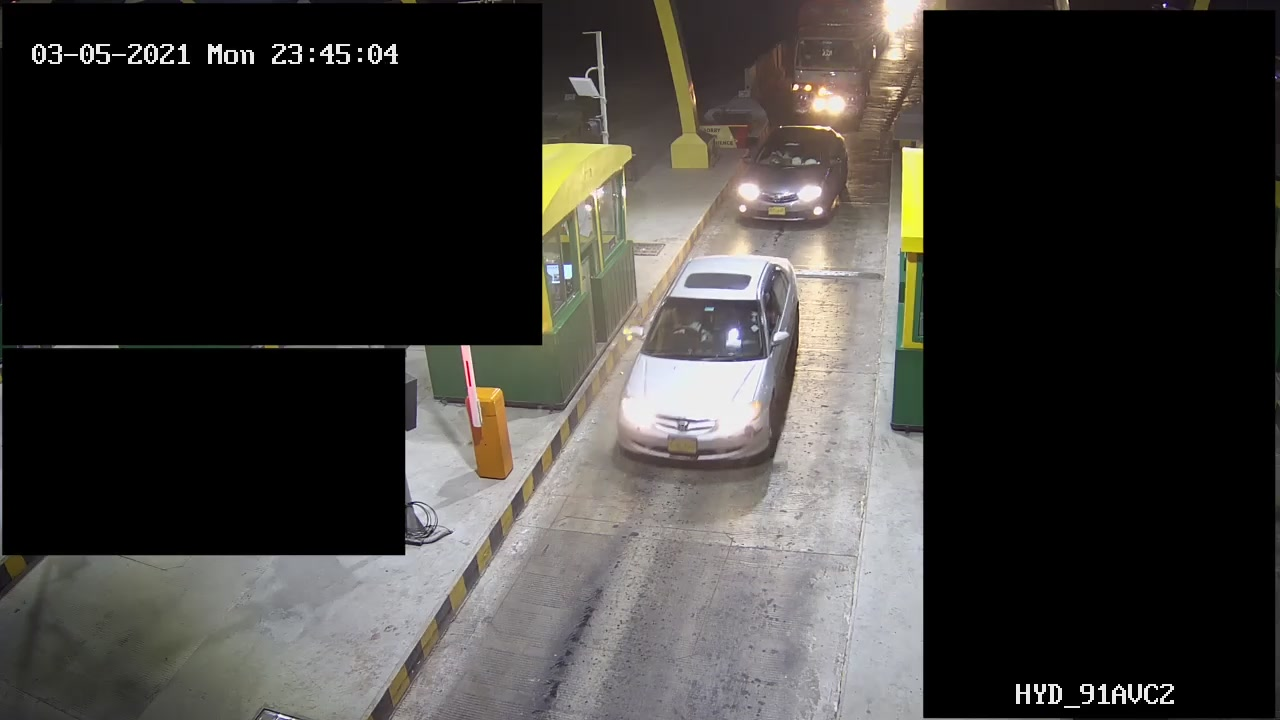F1: (616, 237, 808, 477)
